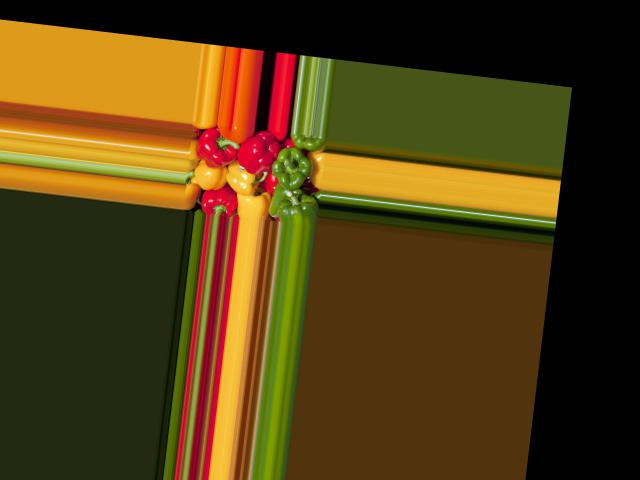bell_pepper: (288, 132, 327, 157)
